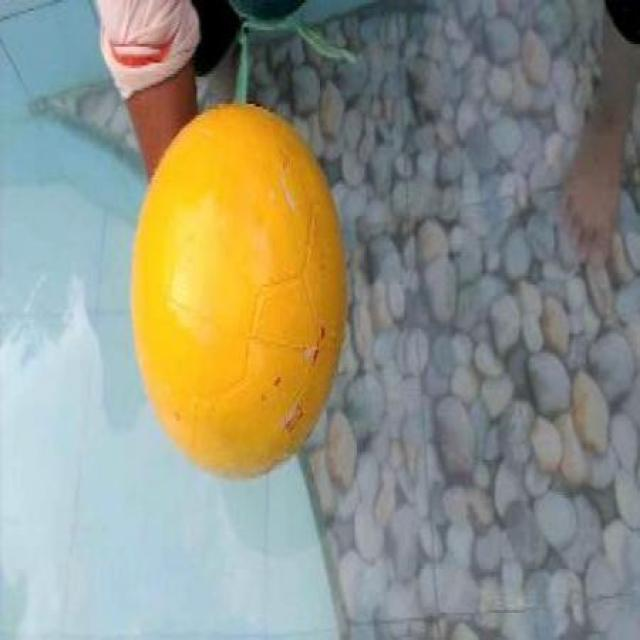buoy: (130, 101, 348, 479)
